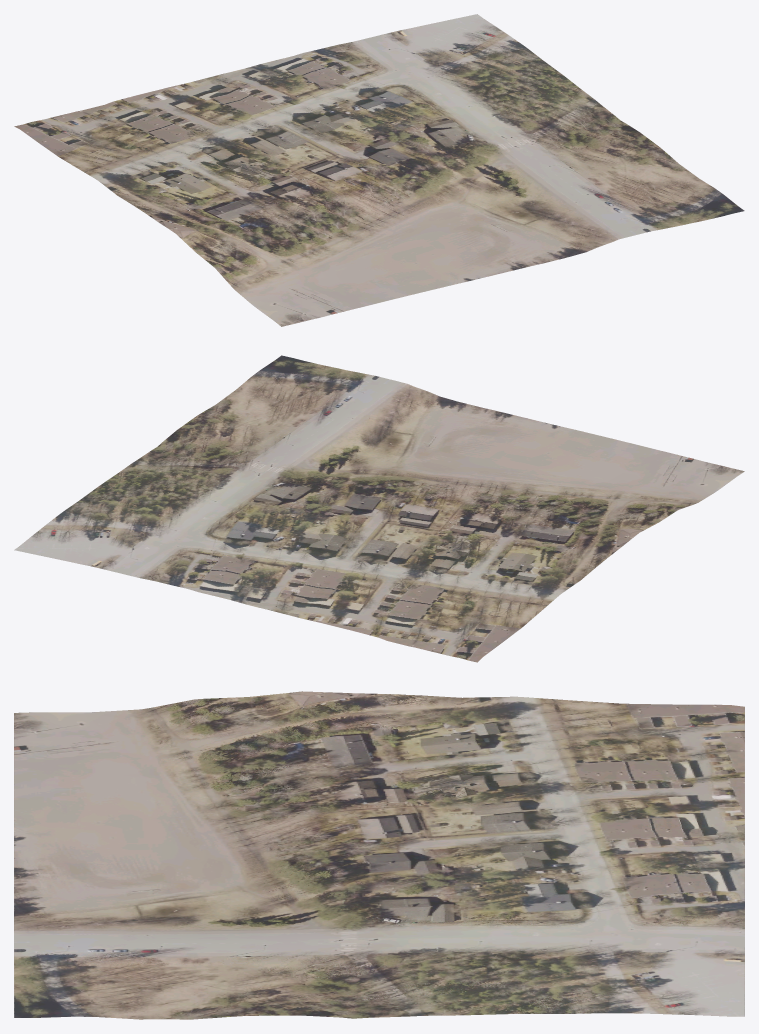
The model's file is CM_Terrain_24491073_6816108.fbx.
3 renders of one model, top to bottom at view 1: azimuth 30°, elevation 25°; view 2: azimuth 150°, elevation 25°; view 3: azimuth 270°, elevation 25°, orthographic. The views are drawn at different scales.
Parts seen in each view (by area): view 1: CM_Terrain_24491073_6816108_LOD0; view 2: CM_Terrain_24491073_6816108_LOD0; view 3: CM_Terrain_24491073_6816108_LOD0.
Boxes of the visible parts, <box> form: CM_Terrain_24491073_6816108_LOD0: <box>14,14,744,326</box>; CM_Terrain_24491073_6816108_LOD0: <box>14,355,744,662</box>; CM_Terrain_24491073_6816108_LOD0: <box>14,691,744,1019</box>.
Size of what is drawn, in the model's own units: 205 by 7.11 by 205.
